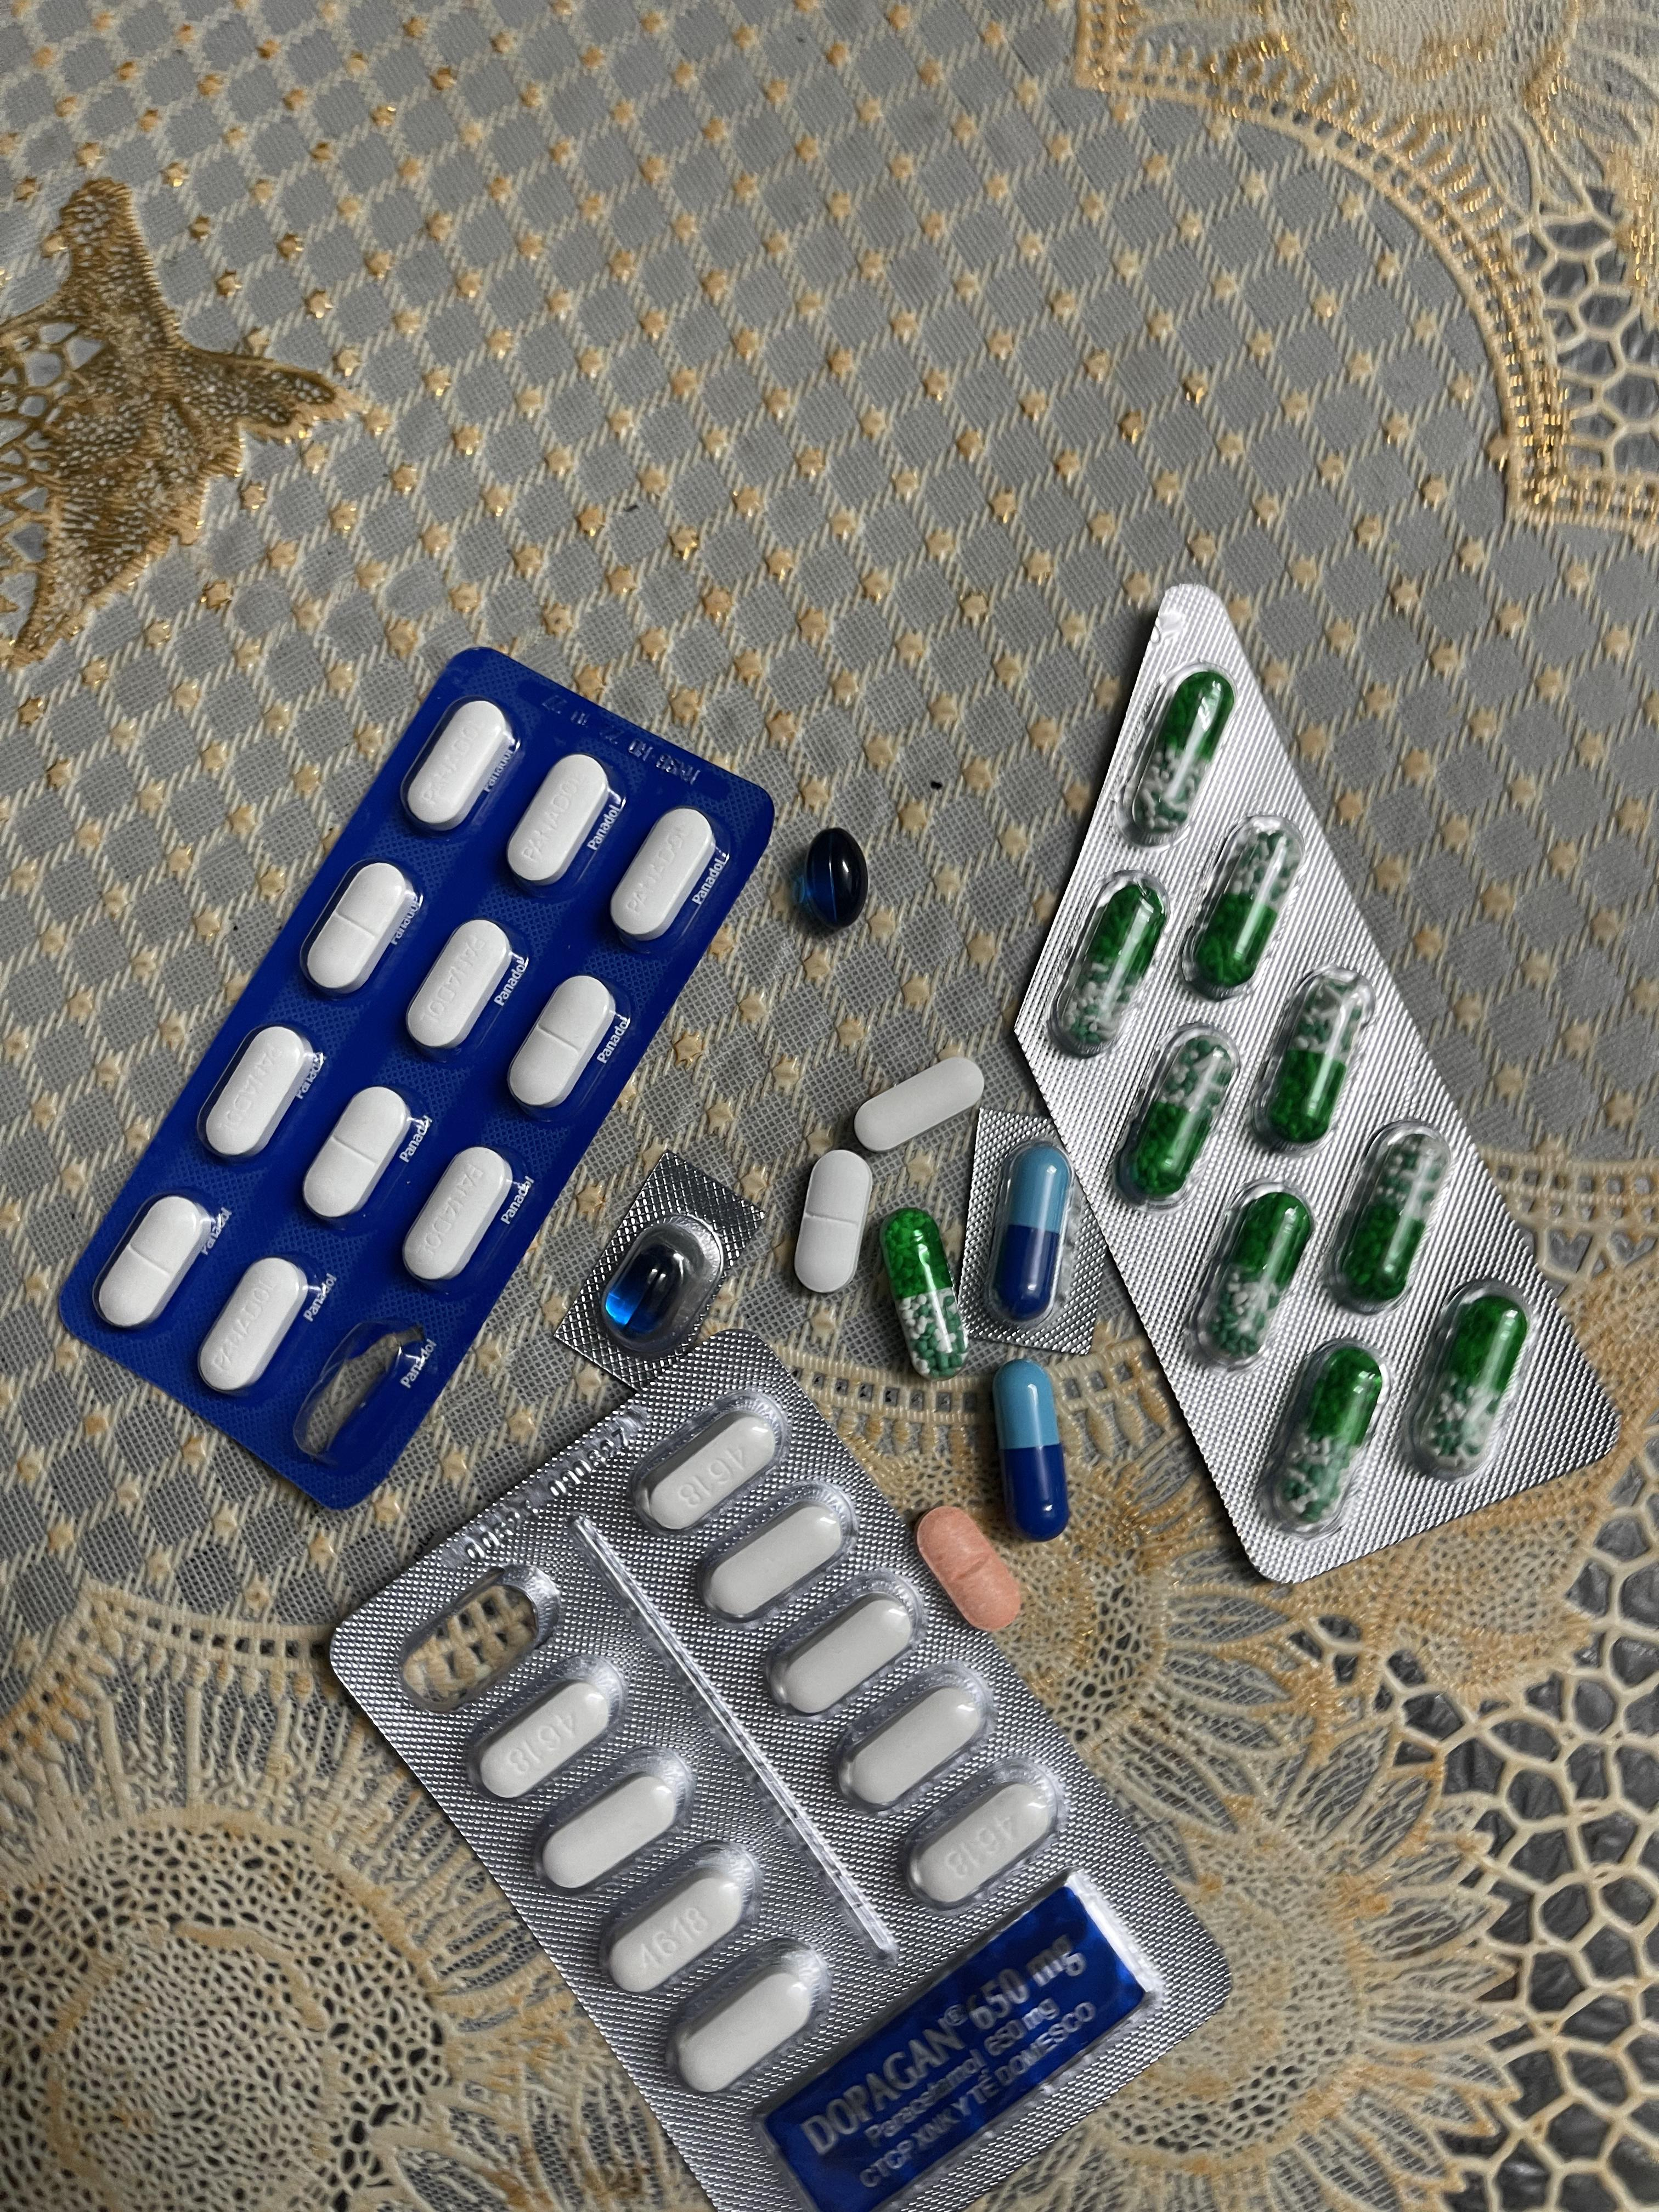Lincomyxin_500mg: (795, 827, 870, 930), (605, 1242, 685, 1332)
Loratadine_10mg: (915, 1507, 1019, 1627)
Paracetamol_350mg: (199, 1254, 317, 1399), (94, 1193, 214, 1331), (202, 1026, 317, 1163), (509, 974, 619, 1115), (404, 698, 518, 834), (403, 1148, 514, 1285), (608, 808, 716, 948), (303, 862, 415, 996), (303, 1085, 411, 1221), (406, 920, 514, 1055), (507, 752, 613, 888), (795, 1148, 871, 1291)
Paracetamol_500mg: (904, 1754, 1063, 1912), (601, 1844, 762, 1996), (763, 1576, 927, 1724), (537, 1742, 695, 1890), (474, 1655, 629, 1804), (836, 1665, 993, 1811), (673, 1965, 819, 2099), (702, 1501, 847, 1625), (640, 1414, 772, 1526), (852, 1055, 983, 1151)
Paracetamol_650mg: (1260, 1341, 1392, 1540), (1408, 1282, 1537, 1482), (1190, 1181, 1314, 1366), (1330, 1125, 1452, 1308), (1258, 977, 1378, 1151), (1183, 824, 1298, 1000), (1115, 1029, 1232, 1198), (1056, 874, 1161, 1054), (1126, 669, 1232, 843), (878, 1205, 971, 1378)
pill: (993, 1148, 1073, 1322), (992, 1360, 1070, 1538)
